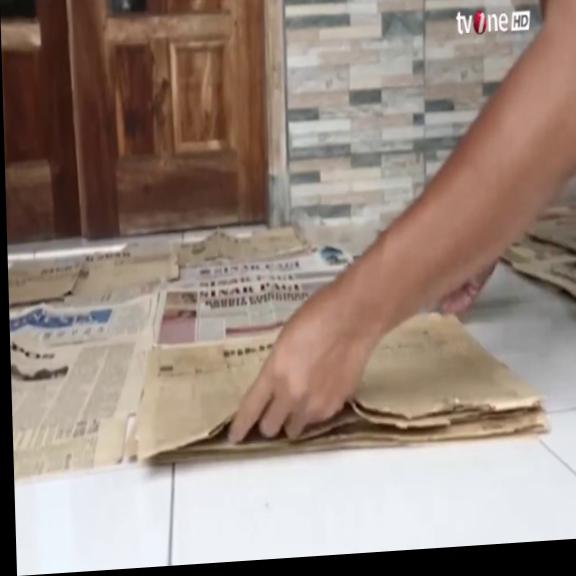Kertas: (10, 287, 166, 482)
